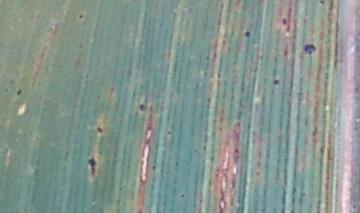tarspot: (87, 155, 98, 178), (303, 43, 317, 56), (231, 146, 240, 164), (311, 125, 320, 140), (243, 28, 252, 39), (15, 87, 24, 97), (327, 1, 335, 12), (95, 125, 104, 134), (125, 66, 133, 76), (272, 78, 280, 87), (138, 103, 146, 112), (203, 53, 211, 62), (281, 17, 288, 27), (117, 185, 125, 193), (166, 129, 173, 138), (8, 78, 15, 87), (77, 12, 85, 19), (179, 192, 186, 200), (173, 160, 180, 168), (83, 73, 91, 80), (299, 191, 307, 198), (351, 202, 357, 211), (95, 94, 103, 100), (34, 133, 40, 141), (236, 119, 241, 128), (151, 165, 158, 171), (316, 1, 326, 5), (3, 87, 9, 93), (136, 208, 142, 213)
